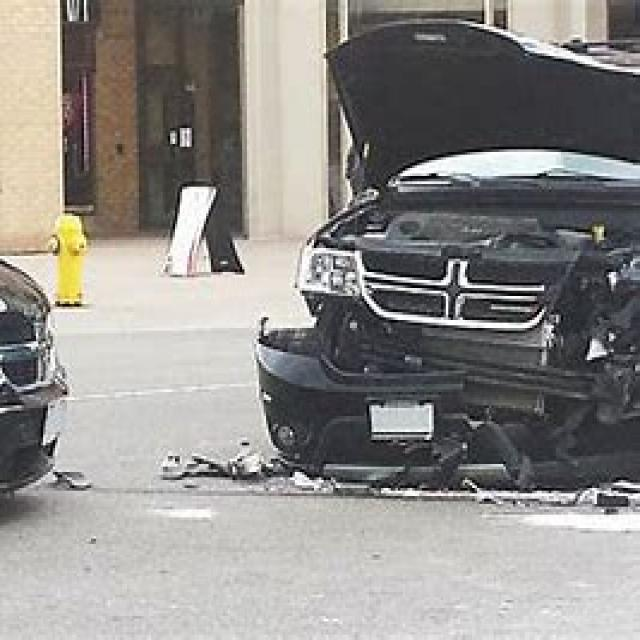Accident: (207, 101, 640, 497)
